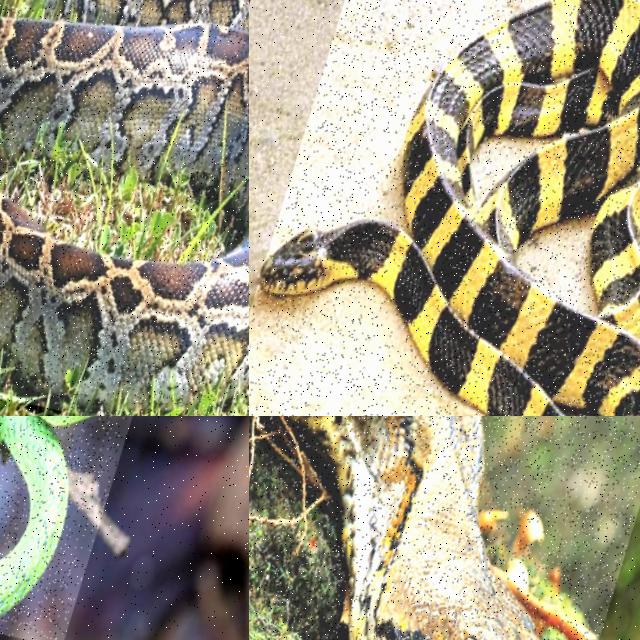Bungarus fasciatus: (260, 0, 639, 415)
Malayopython reticulatus: (289, 416, 538, 639)
Python bivittatus: (0, 0, 248, 405)
Trimeresurus macrops: (0, 416, 89, 614)
snake: (260, 0, 639, 415), (0, 0, 248, 405), (289, 416, 538, 639), (0, 416, 89, 614)
